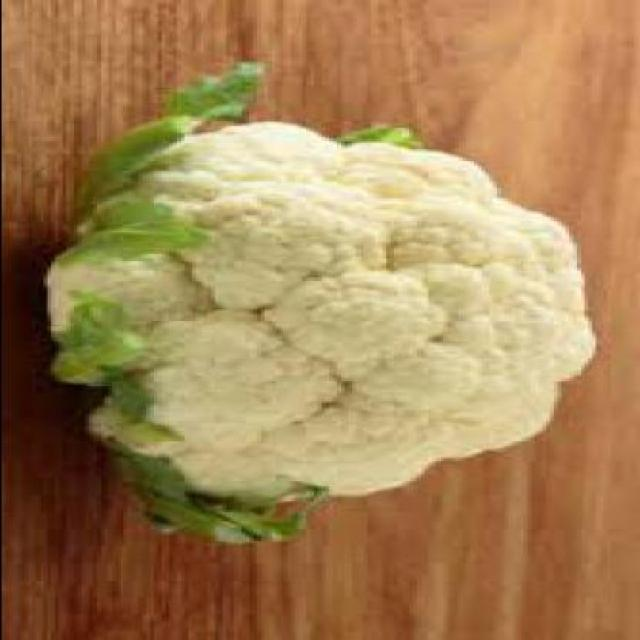BIODEGRADABLE: (48, 62, 594, 540)
